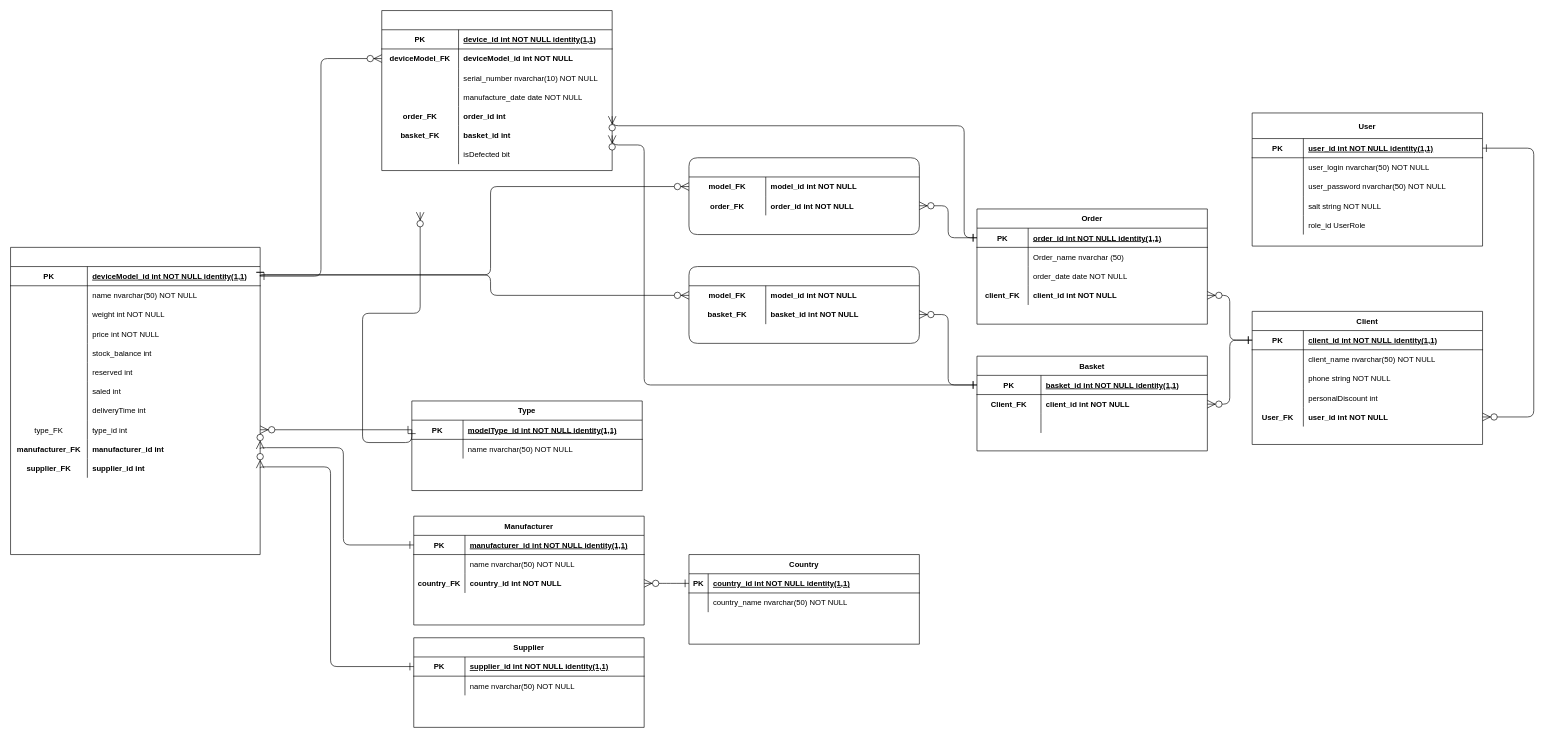
Image size: 1544x738. Some labels were removed from this diagram. Each missing label, with the box of its shape:
DeviceModels: (10, 247, 260, 555)
Devices: (381, 10, 612, 171)
ModelBasket: (688, 266, 919, 343)
ModelOrder: (688, 157, 919, 235)
